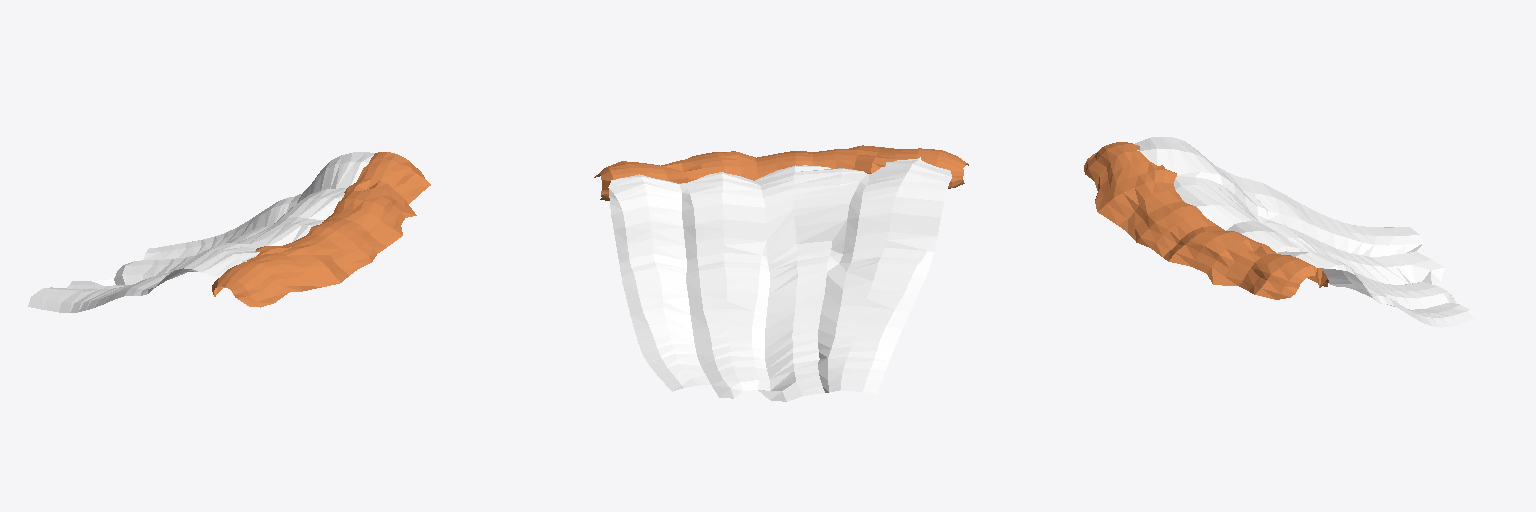
The model's file is WaterFall__Part01.obj.
The picture shows the model from 3 angles: view 1: azimuth 30°, elevation 25°; view 2: azimuth 150°, elevation 25°; view 3: azimuth 270°, elevation 25°; orthographic projection.
Visible parts, largest first — view 1: Rolling_Waves, GameObject__3_; view 2: GameObject__3_, Rolling_Waves; view 3: GameObject__3_, Rolling_Waves.
Boxes of the visible parts, box(x1,y1,x2,y2) form: Rolling_Waves: box(212, 152, 430, 307); GameObject__3_: box(28, 152, 374, 312); GameObject__3_: box(608, 157, 951, 401); Rolling_Waves: box(594, 145, 968, 200); GameObject__3_: box(1135, 137, 1475, 327); Rolling_Waves: box(1084, 142, 1328, 299).
Size of the model in its own units: 48897 by 18709 by 49248.